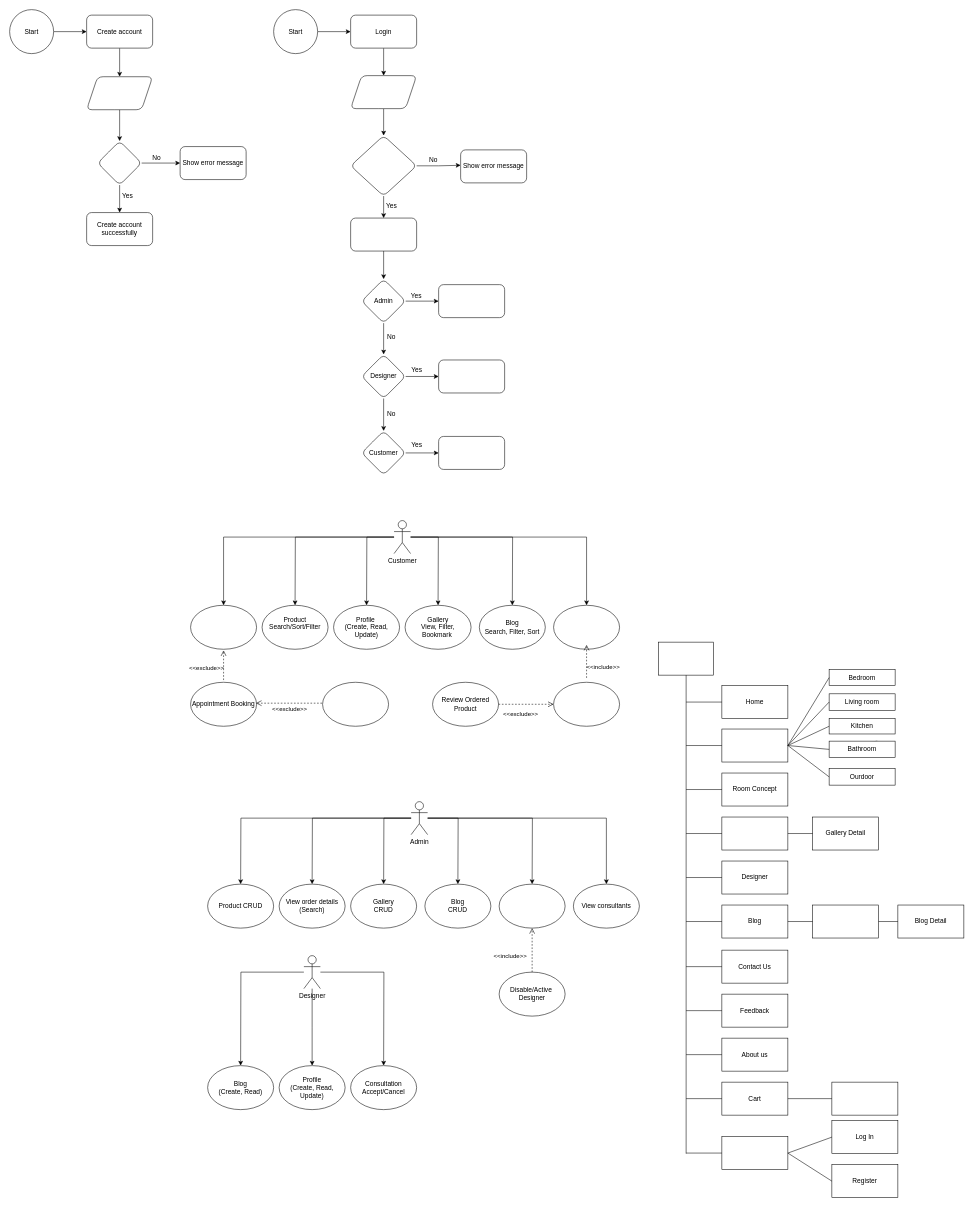
This 974x1207 diagram has some shape labels left out. The centre of each missing label's shape, as x and y in pixels:
Admin Page: (471,301)
Blog List: (845,921)
Check Out: (864,1098)
Check Role: (383,234)
Checkout: (586,704)
Customer Page: (471,452)
Designer Page: (471,376)
Email is valid: (119,163)
Email Password: (383,92)
Email/Password is correct: (383,165)
Firstname Lastname Email Password: (119,93)
Gallery: (754,833)
Index: (686,658)
Log In/Register: (754,1153)
Manage User: (532,906)
Place Order: (586,627)
Product: (754,745)
Review consultation: (355,704)
View Designer Profile: (223,627)
